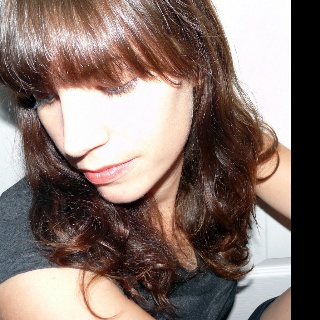without_mask: (0, 0, 260, 203)
